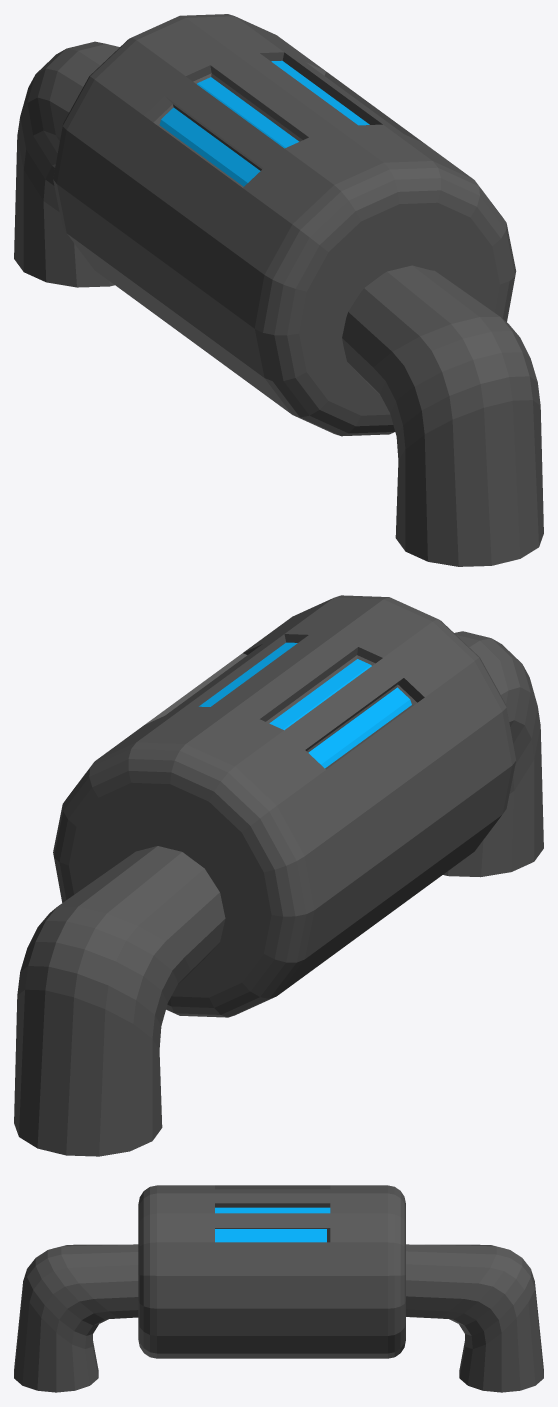
Rendered from Sci Fi Engine.glb.
The picture shows the model from 3 angles, top to bottom: view 1: azimuth 30°, elevation 25°; view 2: azimuth 150°, elevation 25°; view 3: azimuth 270°, elevation 25°; orthographic projection. The views are drawn at different scales.
Visible parts, largest first — view 1: Body, Pipe1, Pipe2, BlueStuff; view 2: Body, Pipe2, Pipe1, BlueStuff; view 3: Body, Pipe2, Pipe1, BlueStuff.
Boxes of the visible parts, left/top/right/bottom form: Body: left=53, top=14, right=516, bottom=436; Pipe1: left=342, top=265, right=543, bottom=566; Pipe2: left=14, top=41, right=119, bottom=287; BlueStuff: left=159, top=60, right=369, bottom=186; Body: left=53, top=595, right=516, bottom=1017; Pipe2: left=14, top=846, right=225, bottom=1156; Pipe1: left=443, top=631, right=543, bottom=877; BlueStuff: left=199, top=642, right=411, bottom=768; Body: left=138, top=1185, right=405, bottom=1358; Pipe2: left=406, top=1244, right=543, bottom=1392; Pipe1: left=14, top=1244, right=138, bottom=1392; BlueStuff: left=215, top=1207, right=330, bottom=1242.
Size of the model in its own units: 2 by 2.3 by 6.11.
